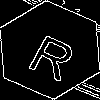R: (25, 25, 84, 83)
